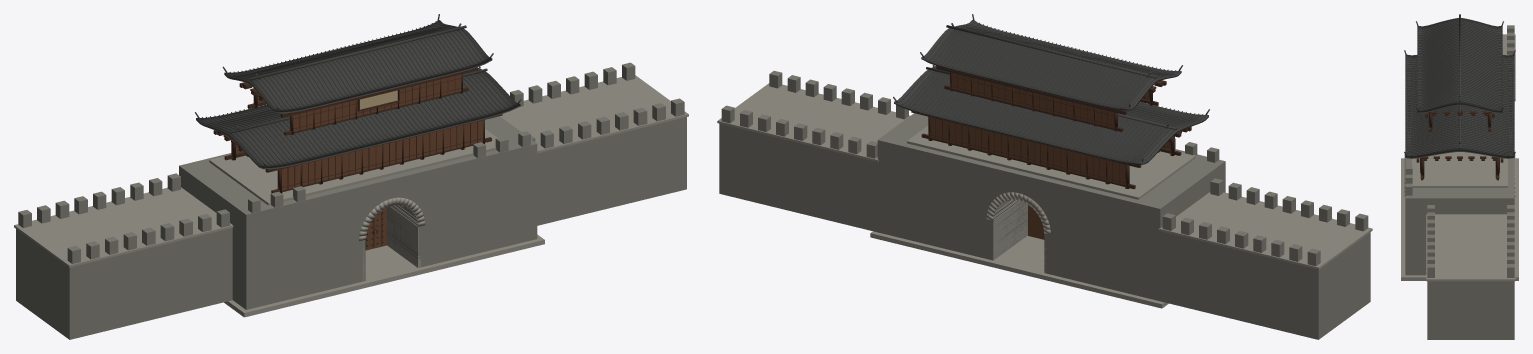
The model's file is SM_Zhengximen_LOD1.fbx.
3 views of the same model, side by side, from view 1: azimuth 30°, elevation 25°; view 2: azimuth 150°, elevation 25°; view 3: azimuth 270°, elevation 25° (orthographic). The views are drawn at different scales.
Parts seen in each view (by area): view 1: SM_Zhengximen_LOD1_GrayBrick, SM_Zhengximen_LOD1_ClayRoofTile, SM_Zhengximen_LOD1_StoneFoundation, SM_Zhengximen_LOD1_AgedWood, SM_Zhengximen_LOD1_DarkTimber; view 2: SM_Zhengximen_LOD1_GrayBrick, SM_Zhengximen_LOD1_StoneFoundation, SM_Zhengximen_LOD1_ClayRoofTile, SM_Zhengximen_LOD1_AgedWood, SM_Zhengximen_LOD1_DarkTimber; view 3: SM_Zhengximen_LOD1_ClayRoofTile, SM_Zhengximen_LOD1_GrayBrick, SM_Zhengximen_LOD1_StoneFoundation, SM_Zhengximen_LOD1_DarkTimber.
Boxes of the visible parts, x1,y1,x2,y2 form: SM_Zhengximen_LOD1_GrayBrick: [16, 62, 686, 339]; SM_Zhengximen_LOD1_ClayRoofTile: [195, 14, 521, 169]; SM_Zhengximen_LOD1_StoneFoundation: [14, 75, 688, 317]; SM_Zhengximen_LOD1_AgedWood: [236, 74, 483, 250]; SM_Zhengximen_LOD1_DarkTimber: [213, 67, 502, 193]; SM_Zhengximen_LOD1_GrayBrick: [719, 70, 1370, 339]; SM_Zhengximen_LOD1_StoneFoundation: [717, 83, 1372, 308]; SM_Zhengximen_LOD1_ClayRoofTile: [893, 14, 1209, 164]; SM_Zhengximen_LOD1_AgedWood: [930, 73, 1170, 239]; SM_Zhengximen_LOD1_DarkTimber: [911, 66, 1191, 189]; SM_Zhengximen_LOD1_ClayRoofTile: [1404, 14, 1515, 158]; SM_Zhengximen_LOD1_GrayBrick: [1405, 25, 1514, 339]; SM_Zhengximen_LOD1_StoneFoundation: [1401, 34, 1518, 281]; SM_Zhengximen_LOD1_DarkTimber: [1416, 111, 1503, 180].
Size of the model in its own units: 5320 by 1080 by 1690.
